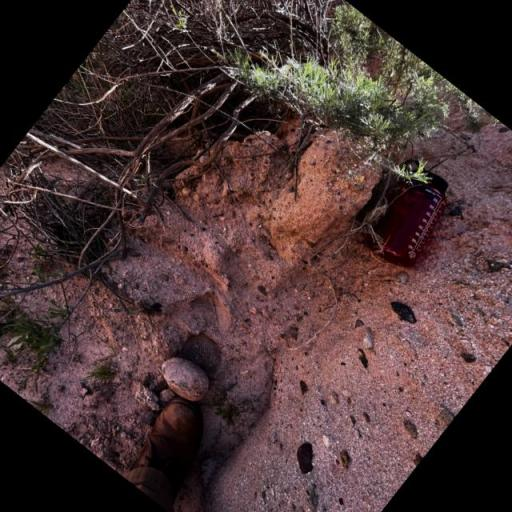bottle: (342, 143, 474, 279)
